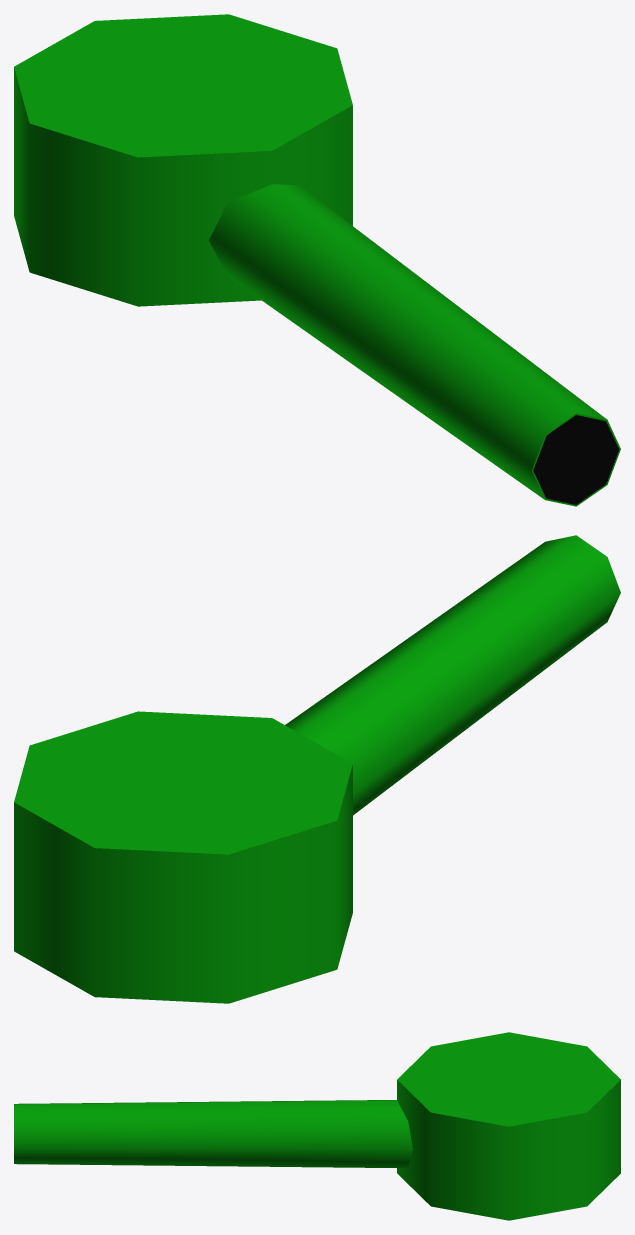
File: houtou.obj
3 renders of one model, top to bottom at view 1: azimuth 30°, elevation 25°; view 2: azimuth 150°, elevation 25°; view 3: azimuth 270°, elevation 25°, orthographic. The views are drawn at different scales.
Visible parts, largest first — view 1: houtou; view 2: houtou; view 3: houtou.
Part boxes in pixels (left/top/right/bottom): houtou: left=14, top=14, right=620, bottom=506; houtou: left=14, top=535, right=620, bottom=1003; houtou: left=14, top=1032, right=620, bottom=1220.
Size of the model in its own units: 0.7435 by 0.3441 by 2.02.
Materials: 1 (1 with a texture image).
